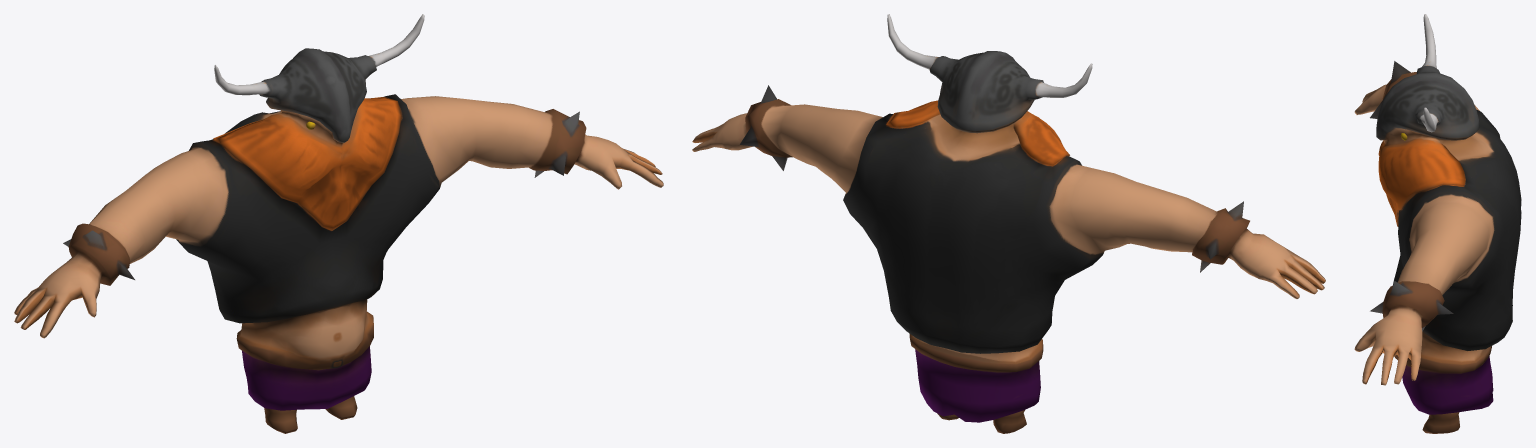
Rendered from intro_enemy(brute-viking)_01.FBX.
The picture shows the model from 3 angles, left to right: view 1: azimuth 30°, elevation 25°; view 2: azimuth 150°, elevation 25°; view 3: azimuth 270°, elevation 25°; orthographic projection. The views are drawn at different scales.
Parts seen in each view (by area): view 1: brute_viking_mesh; view 2: brute_viking_mesh; view 3: brute_viking_mesh.
Boxes of the visible parts, x1,y1,x2,y2 form: brute_viking_mesh: (14, 14, 663, 433); brute_viking_mesh: (692, 14, 1325, 433); brute_viking_mesh: (1354, 14, 1521, 433).
Bounding box in the file's own units: 216 × 125 × 52.87.
Materials: 1 (1 with a texture image).
